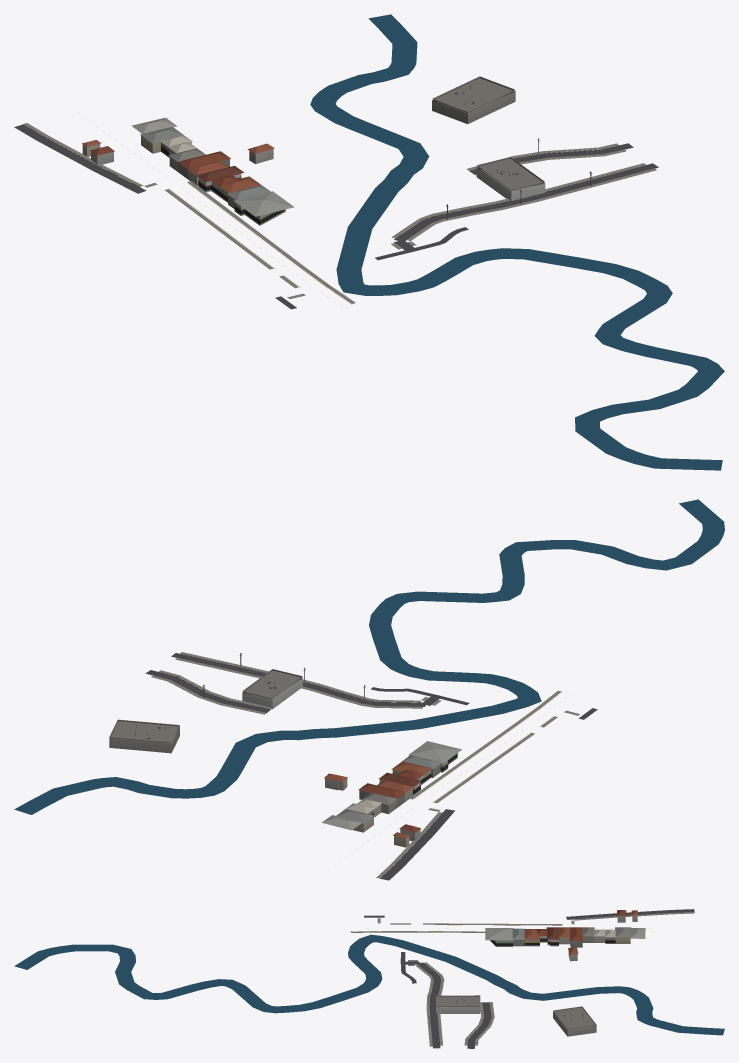
The picture shows the model from 3 angles, top to bottom: view 1: azimuth 30°, elevation 25°; view 2: azimuth 150°, elevation 25°; view 3: azimuth 270°, elevation 25°; orthographic projection. The views are drawn at different scales.
Parts seen in each view (by area): view 1: Water__r-13c-11, Buildings__r-13c-11-col, Sidewalks__r-13c-11-col, Roads_Minor__r-13c-11; view 2: Water__r-13c-11, Buildings__r-13c-11-col, Sidewalks__r-13c-11-col, Roads_Minor__r-13c-11; view 3: Water__r-13c-11, Buildings__r-13c-11-col, Sidewalks__r-13c-11-col, Roads_Minor__r-13c-11, Windows__r-13c-11.
Part boxes in pixels (x1=…): Water__r-13c-11: x1=310, y1=14, x2=724, y2=470; Buildings__r-13c-11-col: x1=81, y1=76, x2=545, y2=225; Sidewalks__r-13c-11-col: x1=23, y1=123, x2=656, y2=303; Roads_Minor__r-13c-11: x1=14, y1=124, x2=658, y2=309; Water__r-13c-11: x1=14, y1=499, x2=724, y2=814; Buildings__r-13c-11-col: x1=109, y1=669, x2=461, y2=847; Sidewalks__r-13c-11-col: x1=151, y1=652, x2=579, y2=878; Roads_Minor__r-13c-11: x1=145, y1=653, x2=597, y2=880; Water__r-13c-11: x1=14, y1=934, x2=724, y2=1035; Buildings__r-13c-11-col: x1=436, y1=910, x2=645, y2=1036; Sidewalks__r-13c-11-col: x1=351, y1=912, x2=694, y2=1046; Roads_Minor__r-13c-11: x1=364, y1=909, x2=694, y2=1048; Windows__r-13c-11: x1=491, y1=938, x2=615, y2=1025.
Bounding box in the file's own units: 289 × 10.1 × 620.
